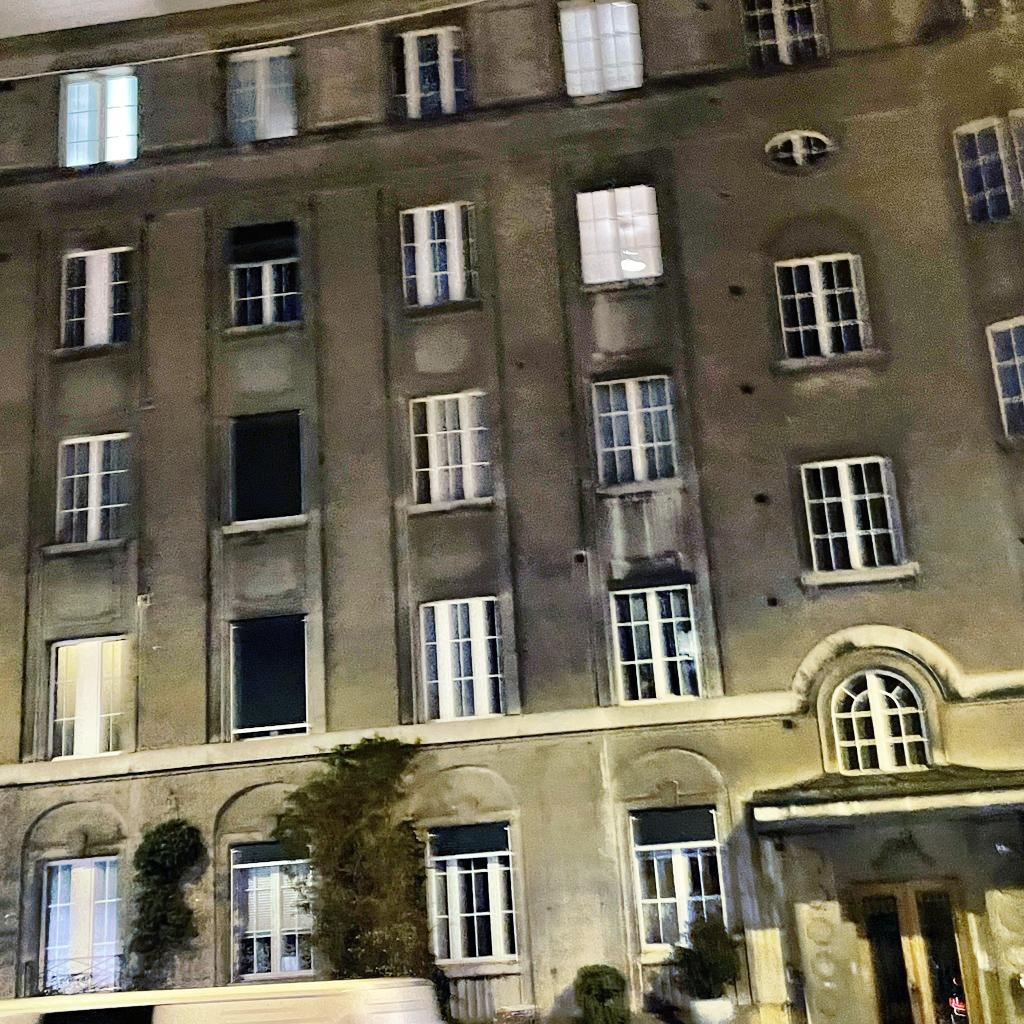vegetation: (269, 732, 464, 1024), (116, 817, 210, 993), (664, 909, 742, 1001), (572, 963, 631, 1024)
window: (627, 804, 728, 946), (423, 819, 519, 964), (230, 843, 316, 983), (37, 855, 124, 992), (800, 455, 900, 572), (608, 583, 703, 706), (772, 252, 876, 360), (829, 667, 932, 776), (418, 595, 502, 723), (408, 389, 497, 505), (47, 635, 128, 761), (229, 615, 308, 742), (589, 375, 679, 486), (575, 182, 665, 285), (54, 432, 133, 545), (555, 0, 644, 99), (399, 200, 480, 308), (228, 411, 303, 524), (951, 109, 1024, 225), (227, 220, 301, 327), (391, 25, 470, 122), (60, 246, 133, 349), (224, 45, 297, 144), (64, 76, 137, 165), (739, 0, 818, 70), (984, 315, 1024, 438), (766, 130, 831, 170)
